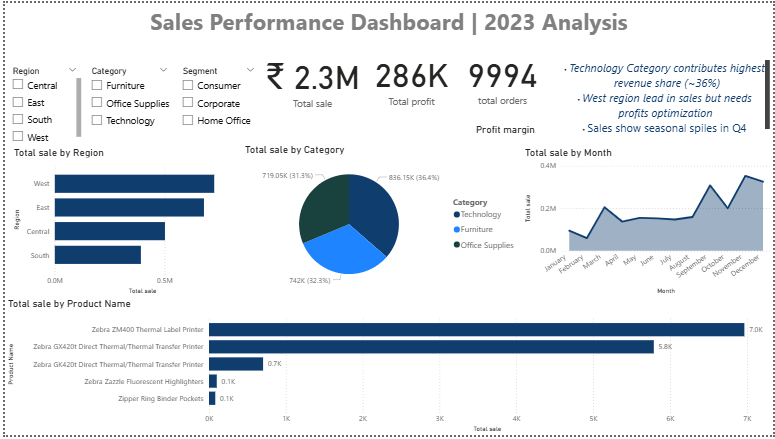

This screenshot's page, from the dashboard's own definition file:
{"tool":"powerbi","page":{"name":"Sales Performance Dashbord","canvas":[1280,720],"ordinal":0},"visuals":[{"type":"card","fields":{"Values":["Orders (2).Total sale"]},"box":[428.3,73.3,168.3,110],"z":0},{"type":"card","fields":{"Values":["Orders (2).Total profit"]},"box":[596.7,71.7,161.7,106.7],"z":1000},{"type":"card","fields":{"Values":["Orders (2).total orders"]},"box":[758.3,73.3,141.7,101.7],"z":2000},{"type":"barChart","fields":{"Category":["Orders (2).Region"],"Y":["Orders (2).Total sale"]},"box":[10,238.3,385,251.7],"z":3000},{"type":"pieChart","fields":{"Category":["Orders (2).Category"],"Y":["Orders (2).Total sale"]},"box":[395,233.3,466.7,251.7],"z":4000},{"type":"lineChart","fields":{"Category":["Orders (2).Order Date.Variation.Date Hierarchy.Month"],"Y":["Orders (2).Total sale"]},"box":[861.7,238.3,418.3,251.7],"z":5000},{"type":"barChart","fields":{"Category":["Orders (2).Product Name"],"Y":["Orders (2).Total sale"]},"box":[0,490,1280,230],"z":5001},{"type":"textbox","box":[0,0,1280,73.3],"z":5002},{"type":"textbox","box":[916.7,90,363.3,138.3],"z":5003},{"type":"slicer","fields":{"Values":["Orders (2).Region"]},"box":[0,100,131.7,138.3],"z":5004},{"type":"slicer","fields":{"Values":["Orders (2).Category"]},"box":[131.7,100,151.7,138.3],"z":5005},{"type":"slicer","fields":{"Values":["Orders (2).Segment"]},"box":[283.3,100,145,133.3],"z":5006},{"type":"kpi","fields":{"Indicator":["Orders.Profit margin"]},"box":[780,200,163.3,28.3],"z":5007}]}

Visuals, with their boxes in screenshot pixels (x1, y1, x2, y2), scaled from the page's 1280x720 canvas onto the 775x439 screenshot:
card - Orders (2).Total sale: (left=259, top=45, right=361, bottom=112)
card - Orders (2).Total profit: (left=361, top=44, right=459, bottom=109)
card - Orders (2).total orders: (left=459, top=45, right=545, bottom=107)
barChart - Orders (2).Region x Orders (2).Total sale: (left=6, top=145, right=239, bottom=299)
pieChart - Orders (2).Category x Orders (2).Total sale: (left=239, top=142, right=522, bottom=296)
lineChart - Orders (2).Order Date.Variation.Date Hierarchy.Month x Orders (2).Total sale: (left=522, top=145, right=774, bottom=299)
barChart - Orders (2).Product Name x Orders (2).Total sale: (left=0, top=299, right=774, bottom=438)
textbox: (left=0, top=0, right=774, bottom=45)
textbox: (left=555, top=55, right=774, bottom=139)
slicer - Orders (2).Region: (left=0, top=61, right=80, bottom=145)
slicer - Orders (2).Category: (left=80, top=61, right=172, bottom=145)
slicer - Orders (2).Segment: (left=172, top=61, right=259, bottom=142)
kpi - Orders.Profit margin: (left=472, top=122, right=571, bottom=139)
